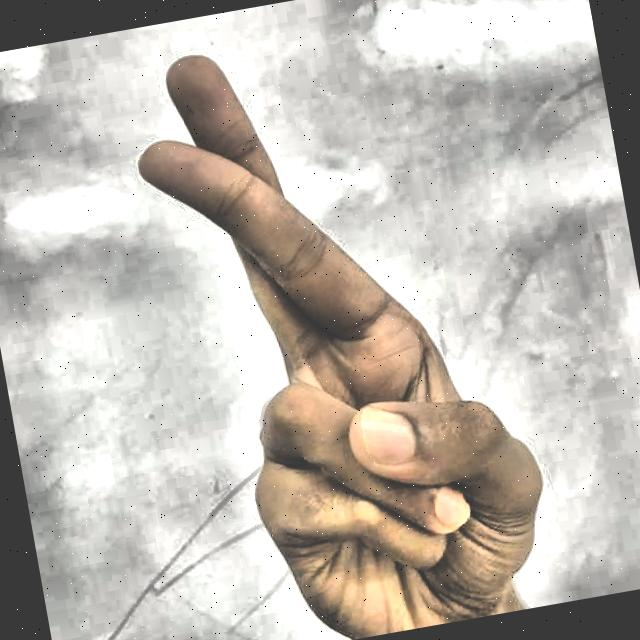Ra: (62, 0, 579, 640)
